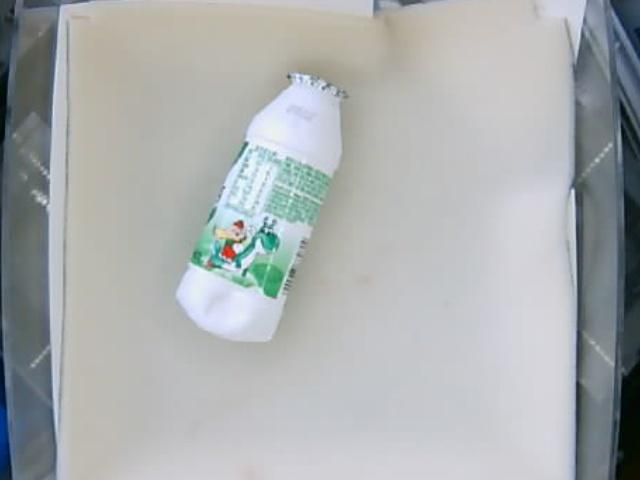Bottle: (174, 74, 350, 346)
